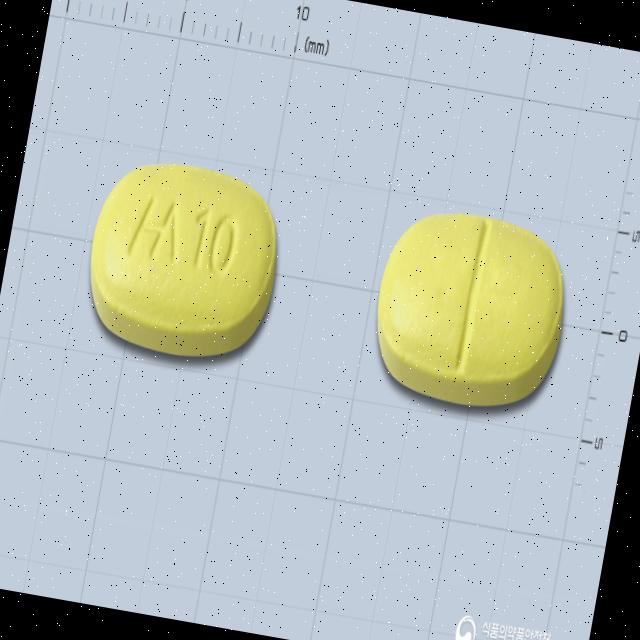Clarid - 500mg: (358, 195, 584, 426), (70, 149, 295, 380)
